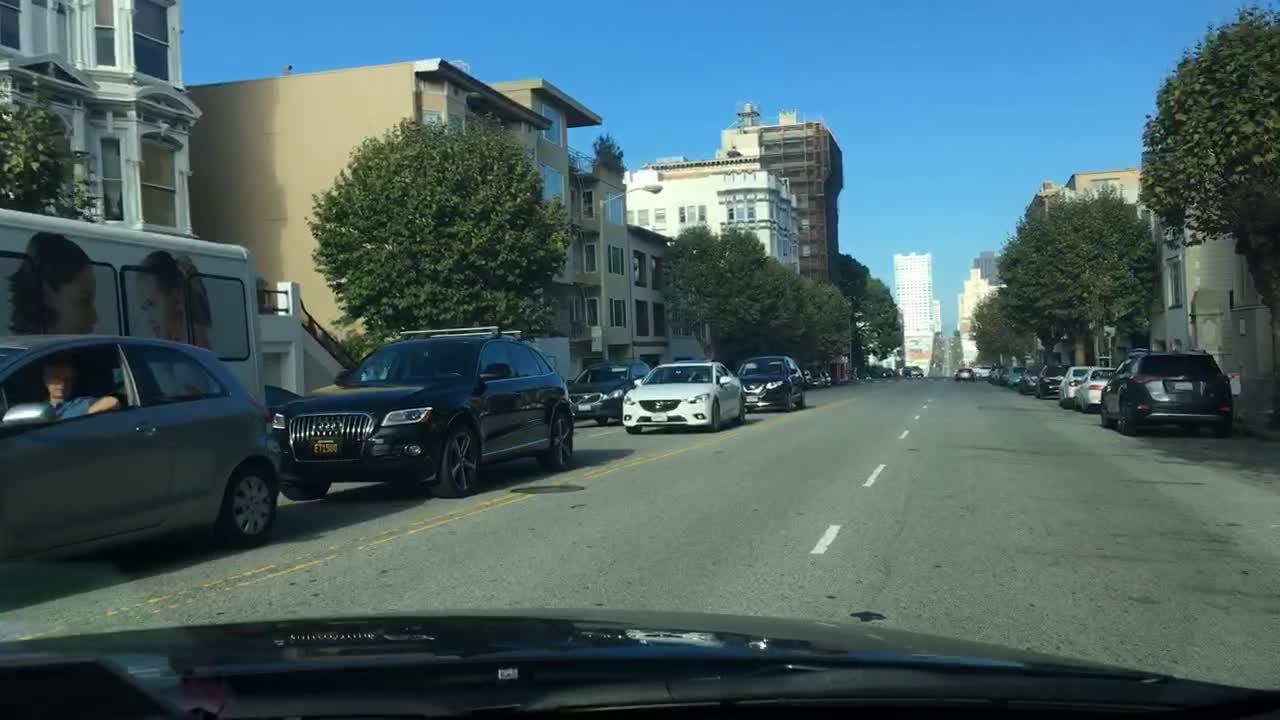Audi: (305, 418, 346, 437)
